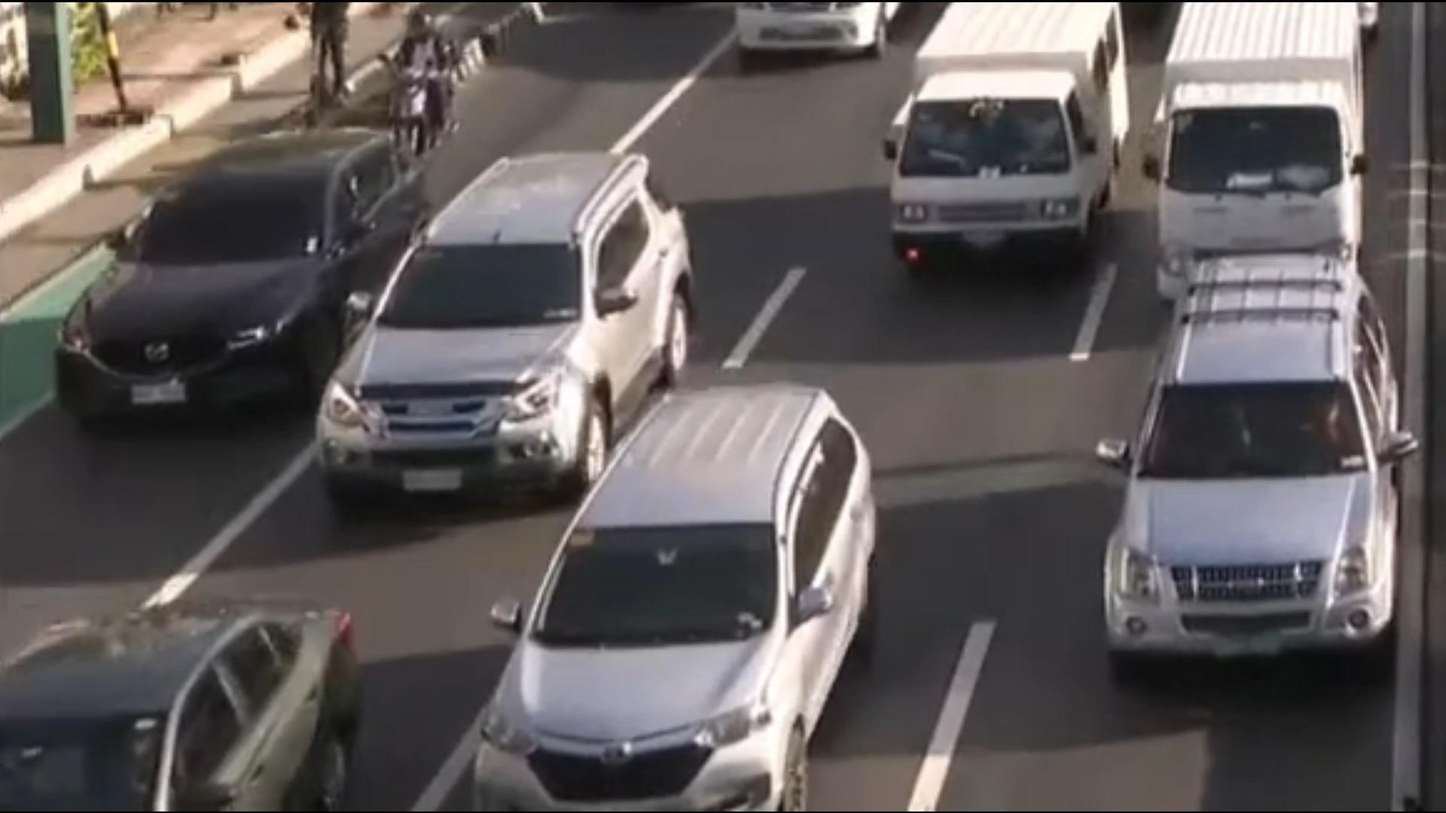Motorcycle: (384, 25, 496, 155)
Multicab: (859, 0, 1153, 298)
SUV: (466, 358, 925, 813), (1046, 268, 1428, 729), (311, 121, 716, 535), (15, 115, 441, 456)
Sedan: (0, 574, 386, 813)
Truck: (1122, 0, 1392, 294)
